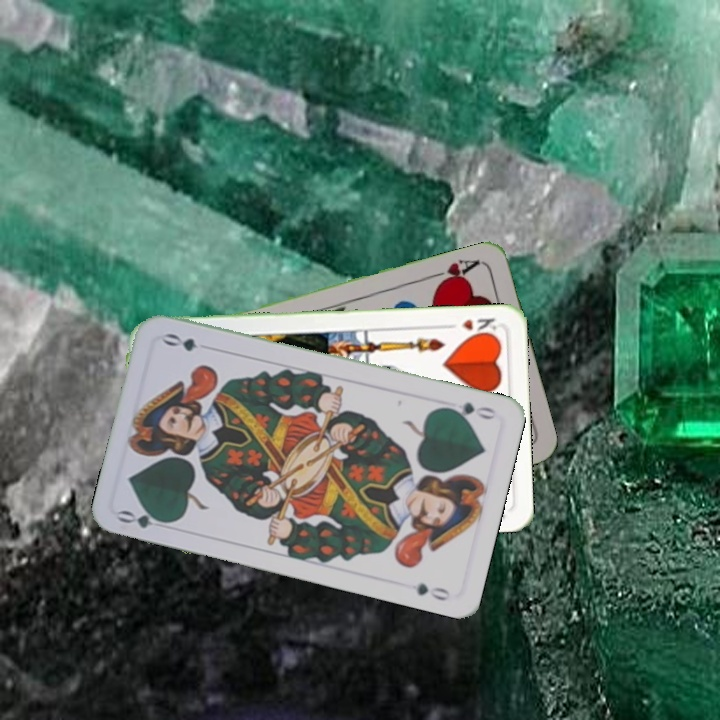GO: (114, 505, 174, 532), (440, 397, 499, 423)
HA: (425, 255, 482, 290)
HK: (442, 314, 501, 339)
